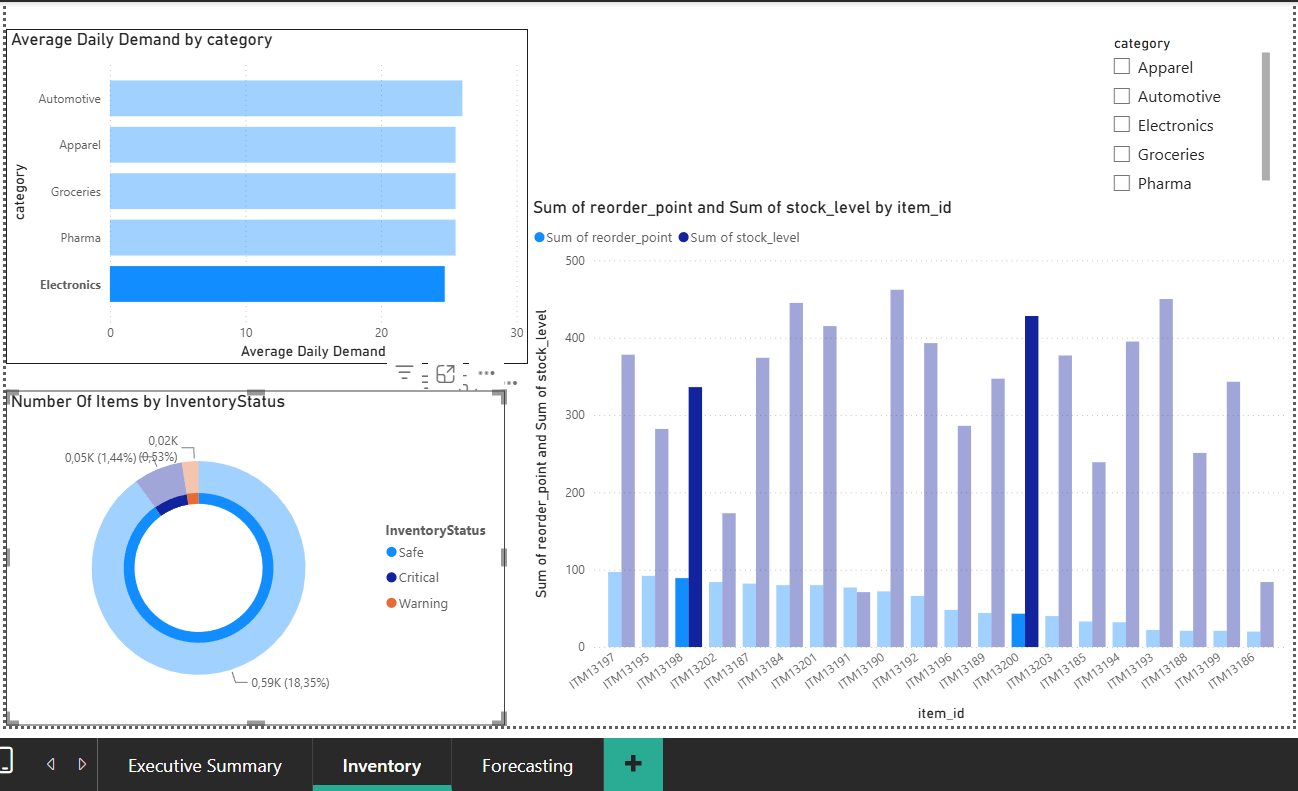

Layout of this report page (visuals, bound fields, positions):
{"tool":"powerbi","page":{"name":"Inventory","canvas":[1280,720],"ordinal":1},"visuals":[{"type":"donutChart","fields":{"Category":["V_Warehouse_InventoryRisk.InventoryStatus"],"Y":["CountNonNull(V_Warehouse_InventoryRisk.item_id)"]},"box":[0,386.7,496.4,332.8],"z":0},{"type":"clusteredColumnChart","fields":{"Y":["Sum(Warehouse.reorder_point)","Sum(Warehouse.stock_level)"],"Category":["Warehouse.item_id"]},"box":[519.4,194.3,759.9,525.2],"z":1000},{"type":"barChart","fields":{"Y":["Avg(V_Warehouse_Demand.avgDailyDemand)"],"Category":["V_Warehouse_Demand.category"]},"box":[0,26.9,519.4,332.8],"z":2000},{"type":"slicer","fields":{"Values":["V_Warehouse_Demand.category"]},"box":[1088.9,26.9,173.1,167.4],"z":3000}]}

Visuals, with their boxes on the page's 1280x720 design canvas (x1, y1, x2, y2). These are canvas units, not pixel positions in the 1298x791 screenshot, which may show the page scaled, cropped or inside an application window:
donutChart - V_Warehouse_InventoryRisk.InventoryStatus x CountNonNull(V_Warehouse_InventoryRisk.item_id): [x1=0, y1=387, x2=496, y2=720]
clusteredColumnChart - Sum(Warehouse.reorder_point) x Sum(Warehouse.stock_level): [x1=519, y1=194, x2=1279, y2=720]
barChart - Avg(V_Warehouse_Demand.avgDailyDemand) x V_Warehouse_Demand.category: [x1=0, y1=27, x2=519, y2=360]
slicer - V_Warehouse_Demand.category: [x1=1089, y1=27, x2=1262, y2=194]
